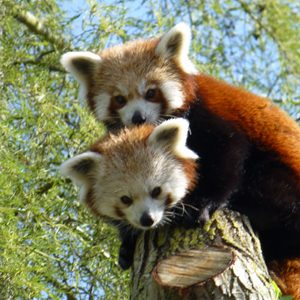red_panda: (64, 28, 300, 200), (69, 131, 228, 259)
